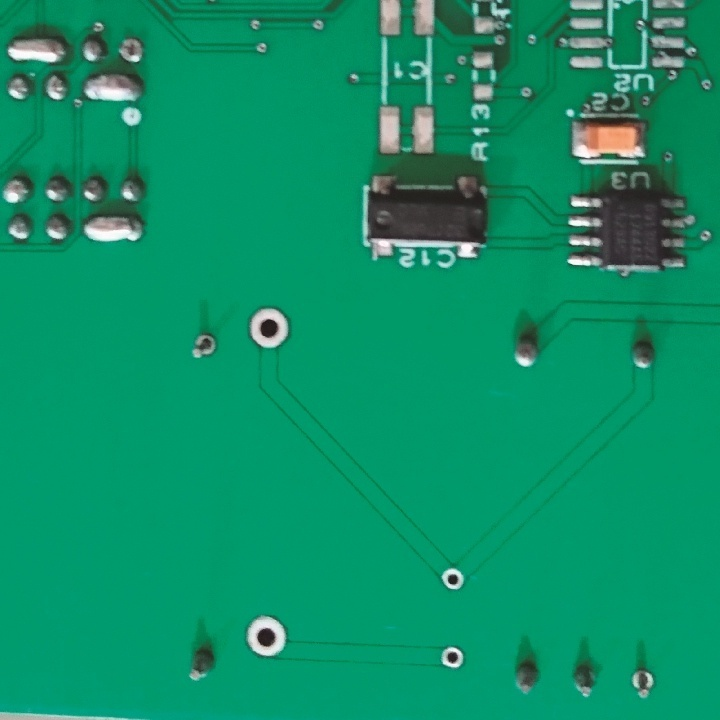F: (242, 305, 295, 350), (244, 615, 293, 659), (630, 663, 656, 700), (117, 35, 149, 64), (190, 330, 217, 362), (439, 643, 467, 669), (439, 564, 464, 592)
P: (81, 68, 147, 106), (81, 212, 144, 248), (5, 35, 70, 66)
